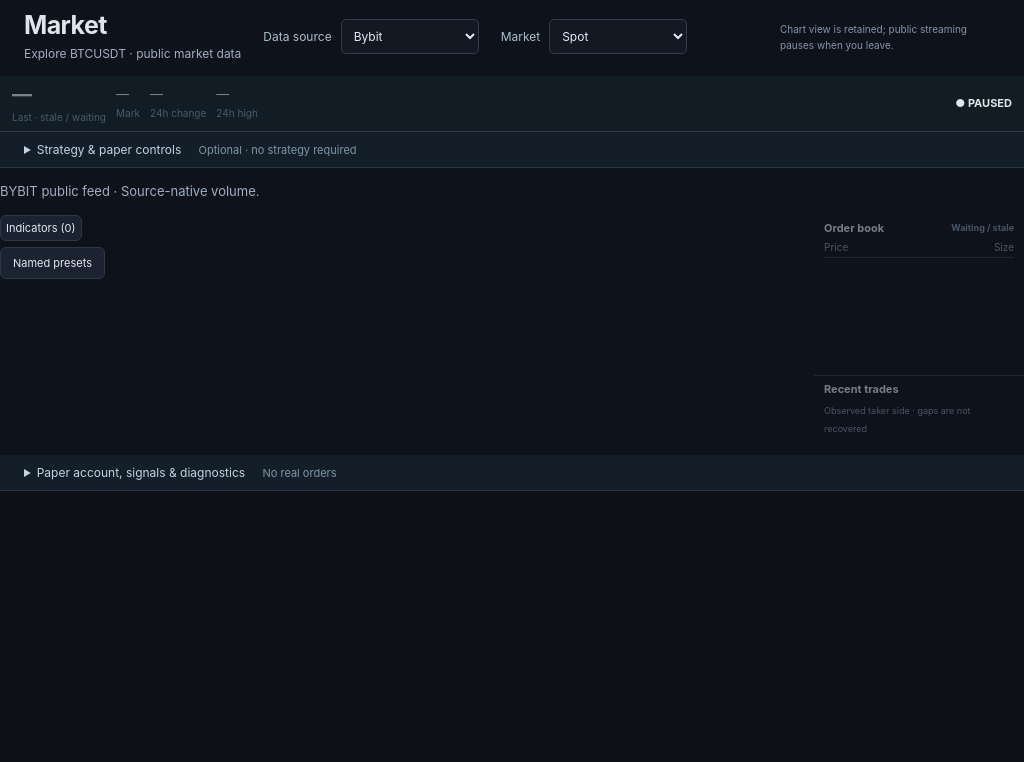
Test case: clears retained pending preset after acknowledged Apply and restores only the applied chart
Click the button "Named presets": (52,263) [0,247,105,279]
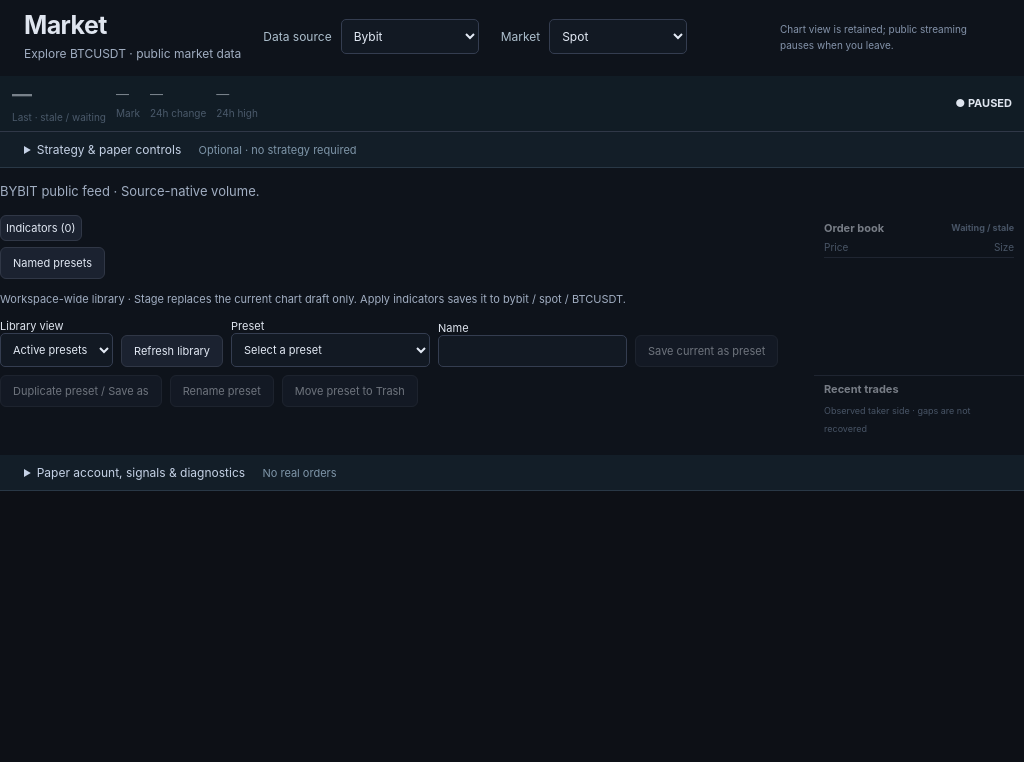
Now the dropdown named "Named indicator preset" is enabled
Select "Retained research · 1 instances" in the dropdown named "Named indicator preset": (331,350) [231,333,430,367]
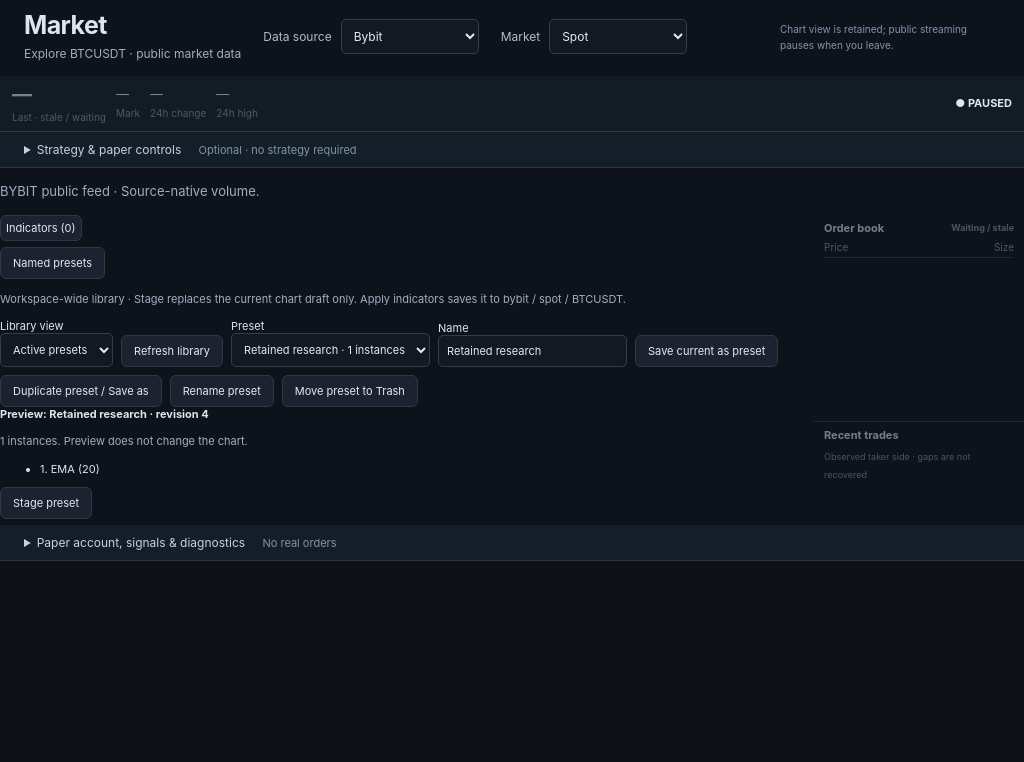
Now the element named "Preset preview" is shown, box [0,407,248,518]
Click the button "Stage preset": (46,502) [0,486,92,518]
(page scrolled)
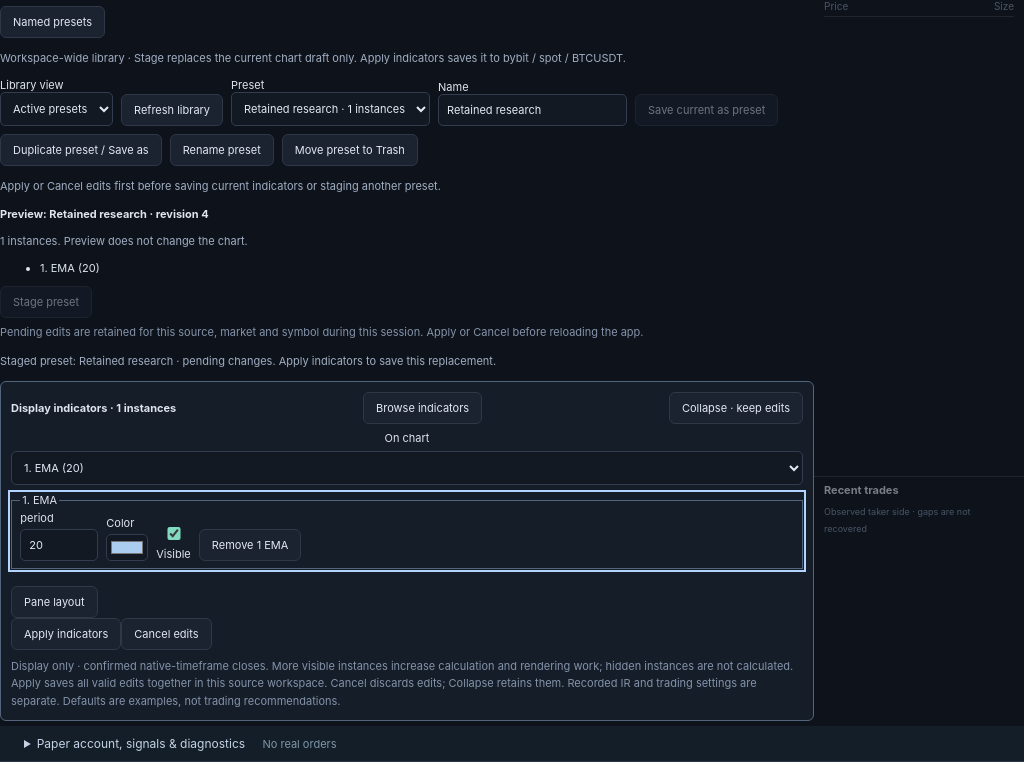
Click the button "Apply indicators": (66,634) [11,618,121,650]
(page scrolled)
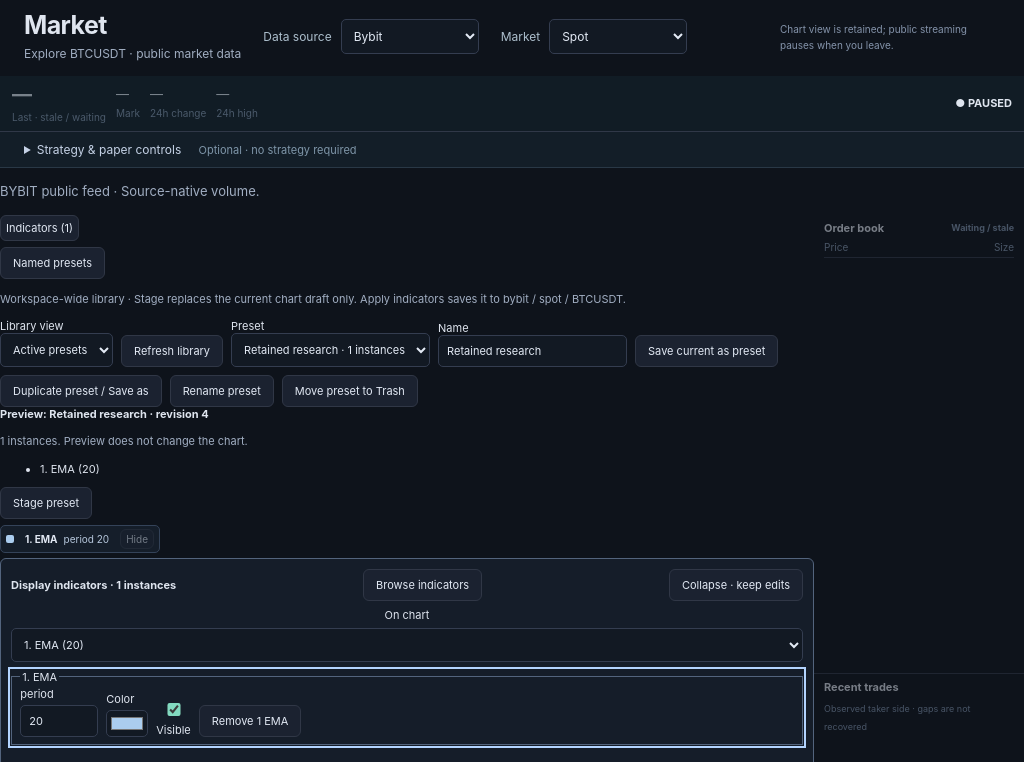
Now the text "Staged preset:" is gone
Select "OKX" in the dropdown named "Market data source": (410,37) [341,19,479,54]
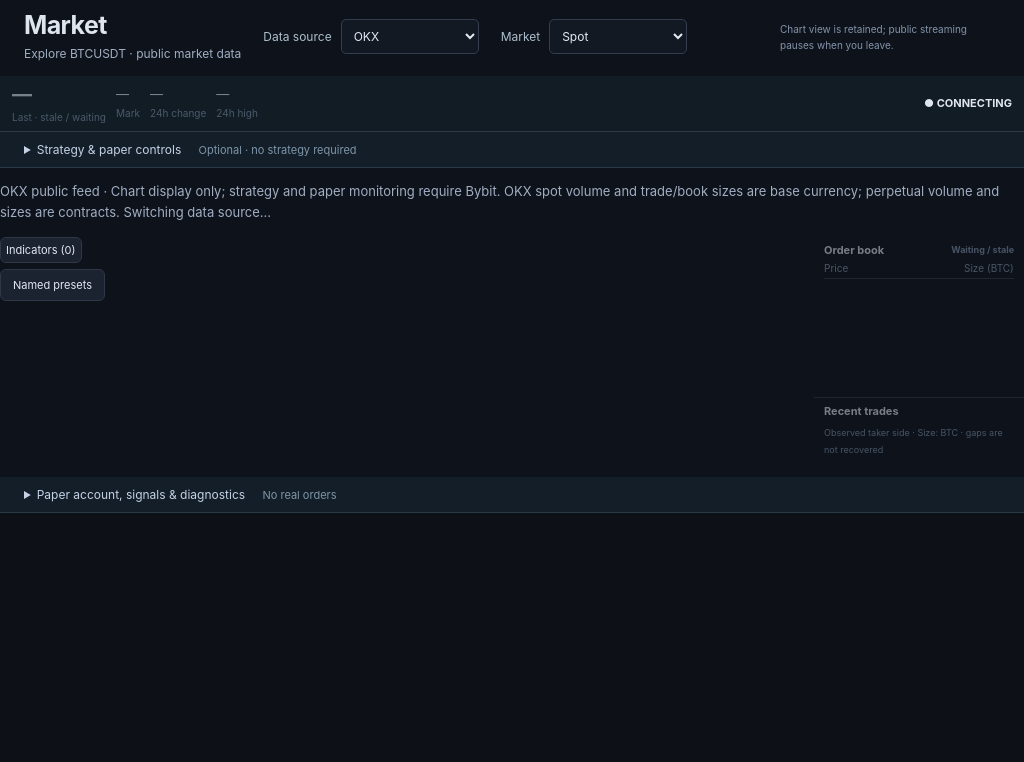
Select "Bybit" in the dropdown named "Market data source": (410,37) [341,19,479,54]
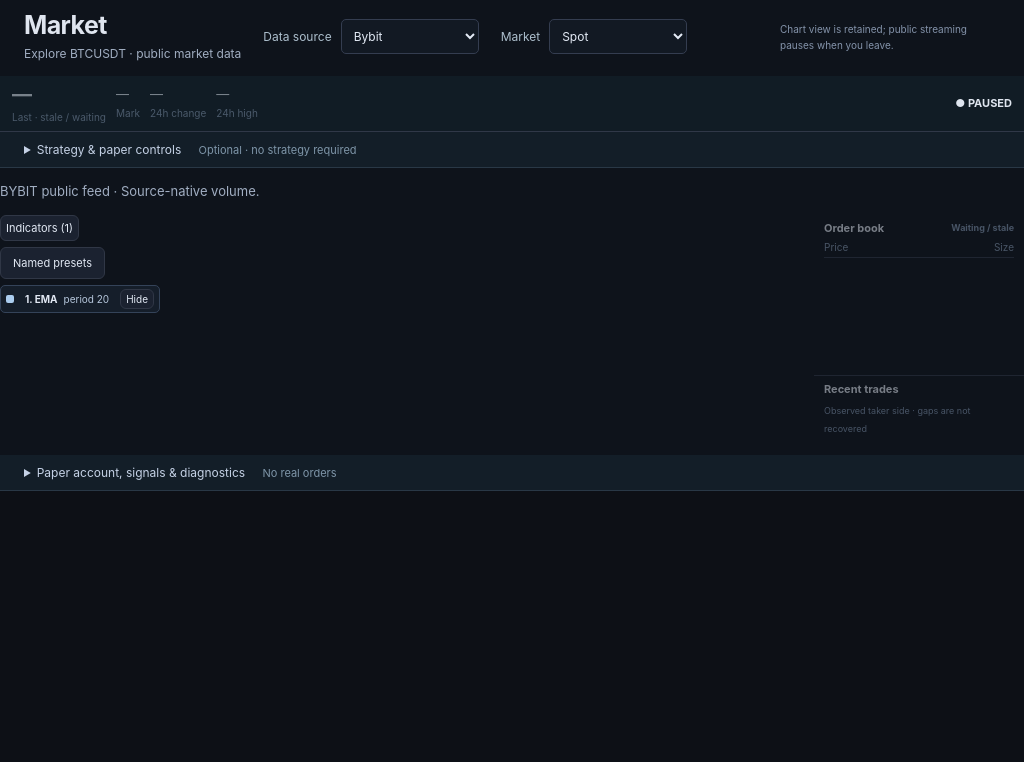
Expected: the text "Pending edits are retained" is not shown
Now the button "Indicators (1)" is shown, box [0,215,79,241]
